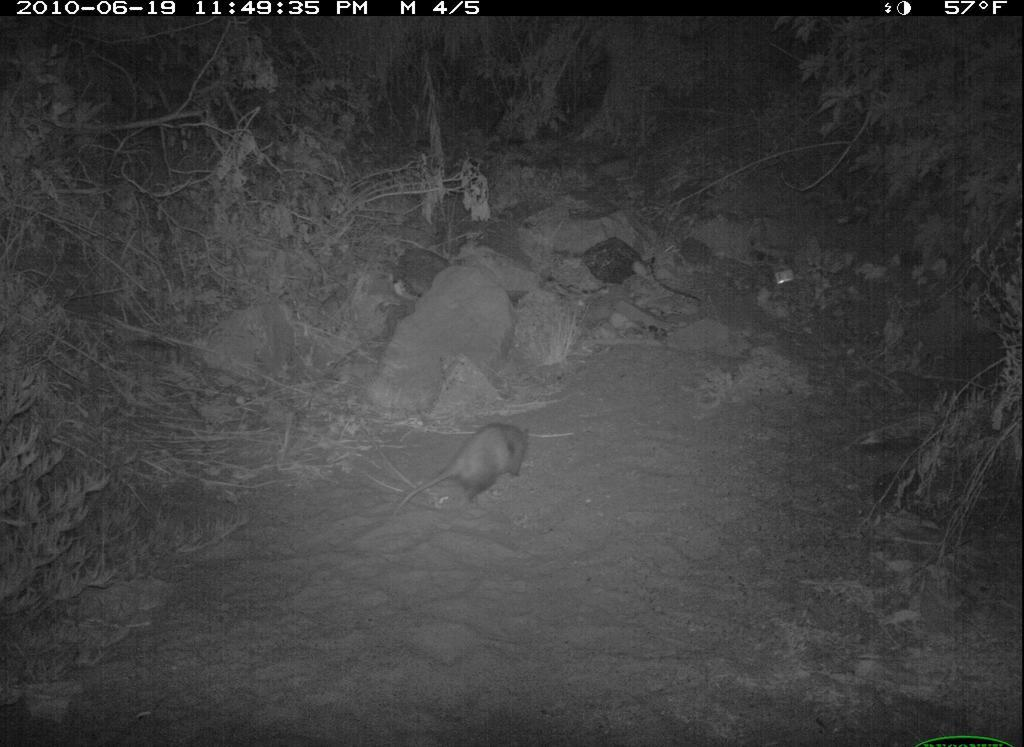opossum: (381, 414, 539, 541)
